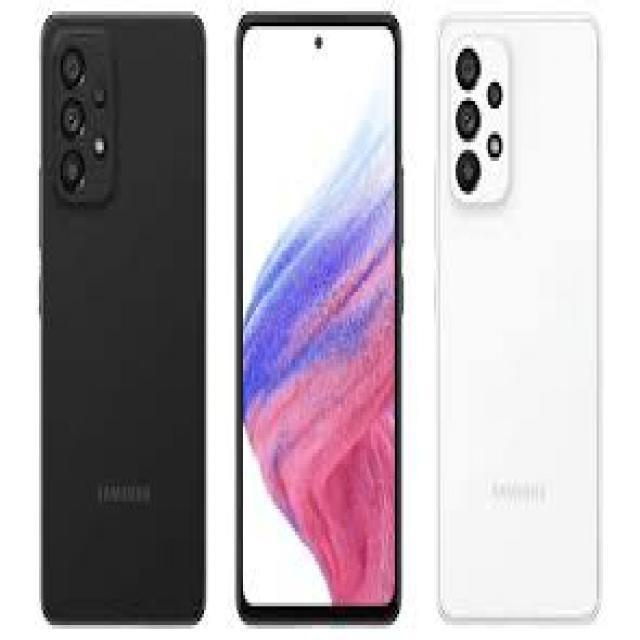phone: (33, 2, 209, 628)
